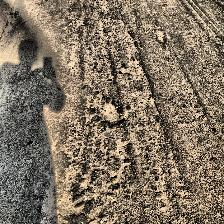pothole: (95, 101, 123, 126)
